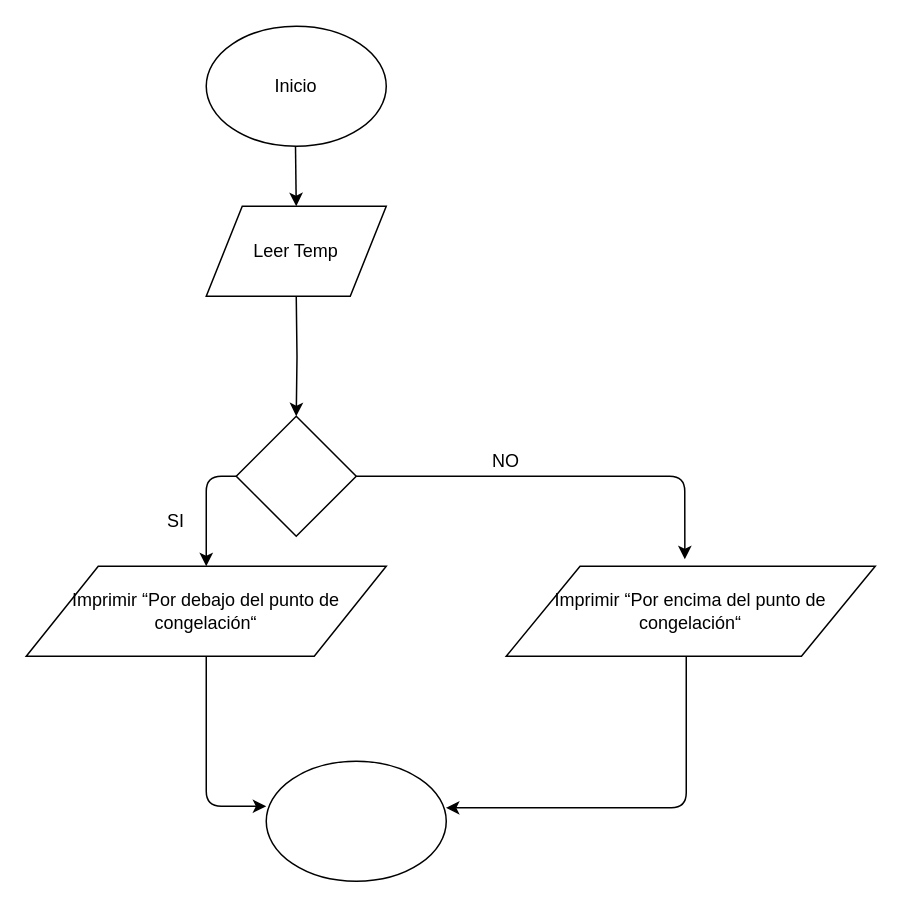
This 902x908 diagram has some shape labels left out. The centre of each missing label's shape, as x and y in pixels:
"Fin" goes at [355,820].
"Temp <0" goes at [295,475].
